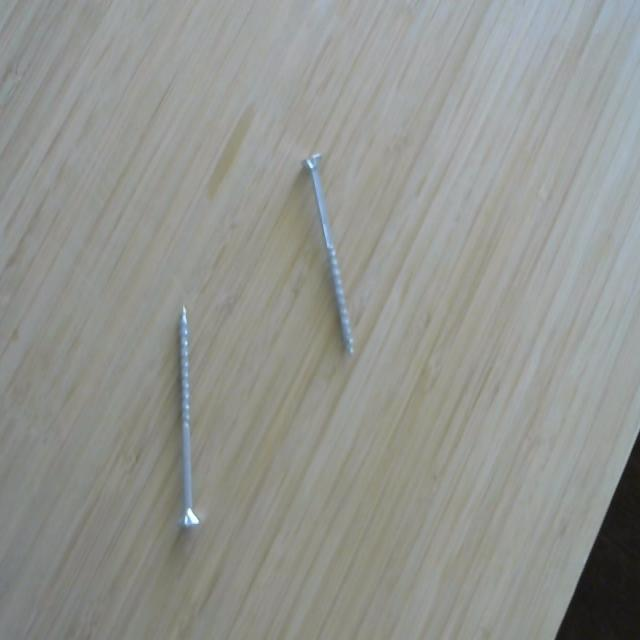Long screw: (295, 142, 365, 369), (173, 299, 206, 535)
